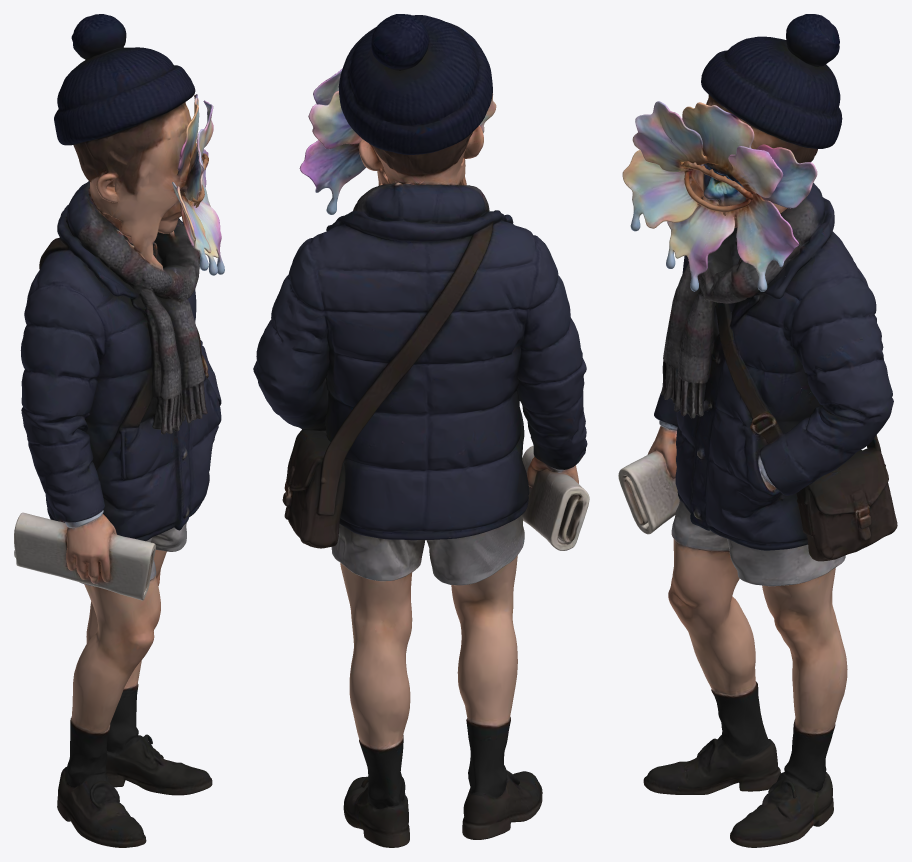
File: oy_pantsless.glb
3 views of the same model, side by side, from view 1: azimuth 30°, elevation 25°; view 2: azimuth 150°, elevation 25°; view 3: azimuth 270°, elevation 25° (orthographic). The views are drawn at different scales.
Visible parts, largest first — view 1: tripo_node_26116fe8-f393-46a8-bde2-fa02a7440f69; view 2: tripo_node_26116fe8-f393-46a8-bde2-fa02a7440f69; view 3: tripo_node_26116fe8-f393-46a8-bde2-fa02a7440f69.
Part boxes in pixels (bbox=[...]): tripo_node_26116fe8-f393-46a8-bde2-fa02a7440f69: bbox=[14, 14, 224, 847]; tripo_node_26116fe8-f393-46a8-bde2-fa02a7440f69: bbox=[253, 14, 589, 847]; tripo_node_26116fe8-f393-46a8-bde2-fa02a7440f69: bbox=[618, 14, 897, 847].
Size of the model in its own units: 0.3281 by 1 by 0.3175.
1 material, 1 textured.
